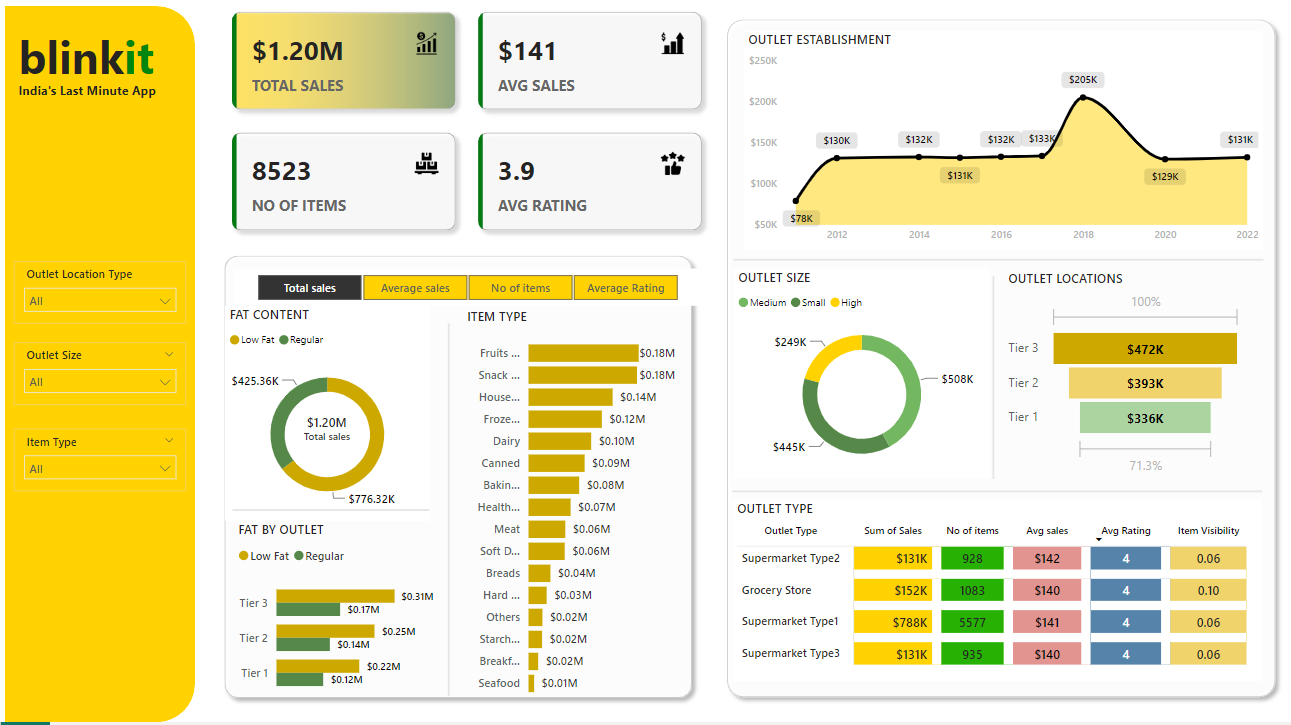

The page's visual inventory and layout, read from the dashboard file:
{"tool":"powerbi","page":{"name":"Home","canvas":[1400,800],"ordinal":0},"visuals":[{"type":"shape","box":[16.1,32.2,203.8,768.1],"z":0},{"type":"textbox","box":[25.5,48.3,175.6,75.1],"z":1000},{"type":"textbox","box":[25.5,108.6,175.6,29.5],"z":2000},{"type":"cardVisual","fields":{"Data":["BlinkIT Grocery Data.Total sales","BlinkIT Grocery Data.Average sales","BlinkIT Grocery Data.No of items","BlinkIT Grocery Data.Average Rating"]},"box":[242.6,21.4,538.9,269.4],"z":3000},{"type":"shape","box":[243,290.4,519.2,492.3],"z":4000},{"type":"donutChart","title":"FAT CONTENT","fields":{"Y":["BlinkIT Grocery Data.Total sales"],"Category":["BlinkIT Grocery Data.Item Fat Content"]},"box":[252,353.9,219.8,230.6],"z":5000},{"type":"slicer","fields":{"Values":["Metrics.Metrics"]},"box":[261.4,313.7,500,40.2],"z":6000},{"type":"cardVisual","fields":{"Data":["BlinkIT Grocery Data.Total sales"]},"box":[282.5,448.2,157.8,74.2],"z":7000},{"type":"clusteredBarChart","title":"FAT BY OUTLET","fields":{"Y":["BlinkIT Grocery Data.Total sales"],"Series":["BlinkIT Grocery Data.Item Fat Content"],"Category":["BlinkIT Grocery Data.Outlet Location Type"]},"box":[262,583.9,219.3,198.8],"z":8000},{"type":"shape","box":[260.4,561.8,211.5,22.1],"z":9000},{"type":"shape","box":[483.9,372.7,16.1,399.5],"z":10000},{"type":"barChart","title":"ITEM TYPE","fields":{"Y":["BlinkIT Grocery Data.Total sales"],"Category":["BlinkIT Grocery Data.Item Type"]},"box":[506.5,355.1,233.5,427.6],"z":11000},{"type":"shape","box":[781.1,37.9,606,744.8],"z":12000},{"type":"lineChart","title":"OUTLET ESTABLISHMENT","fields":{"Category":["BlinkIT Grocery Data.Outlet Establishment Year"],"Y":["Sum(BlinkIT Grocery Data.Sales)"]},"box":[807.9,58.4,557,235.1],"z":13000},{"type":"shape","box":[797.6,293.6,568.4,21.4],"z":14000},{"type":"donutChart","title":"OUTLET SIZE","fields":{"Y":["Sum(BlinkIT Grocery Data.Sales)"],"Category":["BlinkIT Grocery Data.Outlet Size"]},"box":[797.6,313.7,275,225],"z":15000},{"type":"shape","box":[1069.9,321.9,12.6,217.8],"z":16000},{"type":"funnel","title":"OUTLET LOCATIONS","fields":{"Y":["Sum(BlinkIT Grocery Data.Sales)"],"Category":["BlinkIT Grocery Data.Outlet Location Type"]},"box":[1087.3,315.6,260.4,225.7],"z":17000},{"type":"shape","box":[796.9,541.3,568.1,22.1],"z":18000},{"type":"pivotTable","title":"OUTLET TYPE","fields":{"Rows":["BlinkIT Grocery Data.Outlet Type"],"Values":["Sum(BlinkIT Grocery Data.Sales)","BlinkIT Grocery Data.No of items","BlinkIT Grocery Data.Average sales","BlinkIT Grocery Data.Average Rating","Avg(BlinkIT Grocery Data.Item Visibility)"]},"box":[796.9,561.8,568.1,194.1],"z":19000},{"type":"slicer","fields":{"Values":["BlinkIT Grocery Data.Outlet Location Type"]},"box":[25.5,305.6,185,67],"z":20000},{"type":"slicer","fields":{"Values":["BlinkIT Grocery Data.Outlet Size"]},"box":[25.5,392.8,185,67],"z":21000},{"type":"slicer","fields":{"Values":["BlinkIT Grocery Data.Item Type"]},"box":[25.5,485.3,185,67],"z":22000}]}

Visuals, with their boxes in screenshot pixels (x1, y1, x2, y2), scaled from the page's 1400x800 canvas onto the 1291x725 screenshot:
shape: (x1=15, y1=29, x2=203, y2=724)
textbox: (x1=24, y1=44, x2=185, y2=112)
textbox: (x1=24, y1=98, x2=185, y2=125)
cardVisual - BlinkIT Grocery Data.Total sales x BlinkIT Grocery Data.Average sales: (x1=224, y1=19, x2=721, y2=264)
shape: (x1=224, y1=263, x2=703, y2=709)
"FAT CONTENT" donutChart: (x1=232, y1=321, x2=435, y2=530)
slicer - Metrics.Metrics: (x1=241, y1=284, x2=702, y2=321)
cardVisual - BlinkIT Grocery Data.Total sales: (x1=261, y1=406, x2=406, y2=473)
"FAT BY OUTLET" clusteredBarChart: (x1=242, y1=529, x2=444, y2=709)
shape: (x1=240, y1=509, x2=435, y2=529)
shape: (x1=446, y1=338, x2=461, y2=700)
"ITEM TYPE" barChart: (x1=467, y1=322, x2=682, y2=709)
shape: (x1=720, y1=34, x2=1279, y2=709)
"OUTLET ESTABLISHMENT" lineChart: (x1=745, y1=53, x2=1259, y2=266)
shape: (x1=736, y1=266, x2=1260, y2=285)
"OUTLET SIZE" donutChart: (x1=736, y1=284, x2=989, y2=488)
shape: (x1=987, y1=292, x2=998, y2=489)
"OUTLET LOCATIONS" funnel: (x1=1003, y1=286, x2=1243, y2=491)
shape: (x1=735, y1=491, x2=1259, y2=511)
"OUTLET TYPE" pivotTable: (x1=735, y1=509, x2=1259, y2=685)
slicer - BlinkIT Grocery Data.Outlet Location Type: (x1=24, y1=277, x2=194, y2=338)
slicer - BlinkIT Grocery Data.Outlet Size: (x1=24, y1=356, x2=194, y2=417)
slicer - BlinkIT Grocery Data.Item Type: (x1=24, y1=440, x2=194, y2=501)
